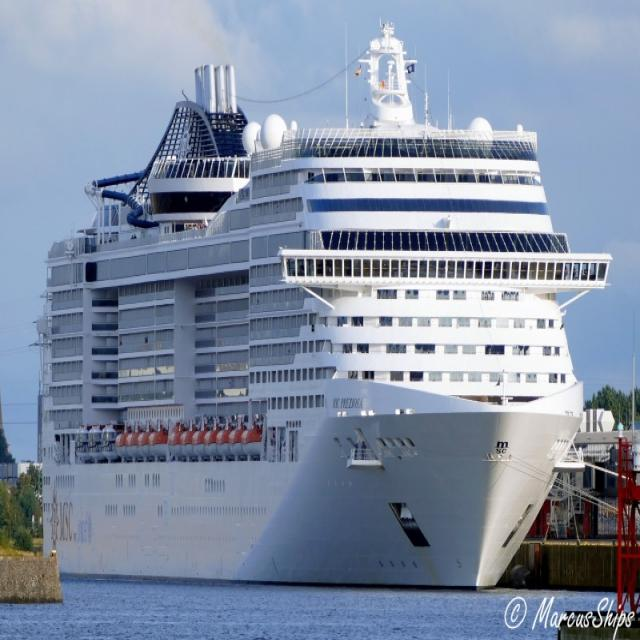cruises: (33, 26, 613, 600)
